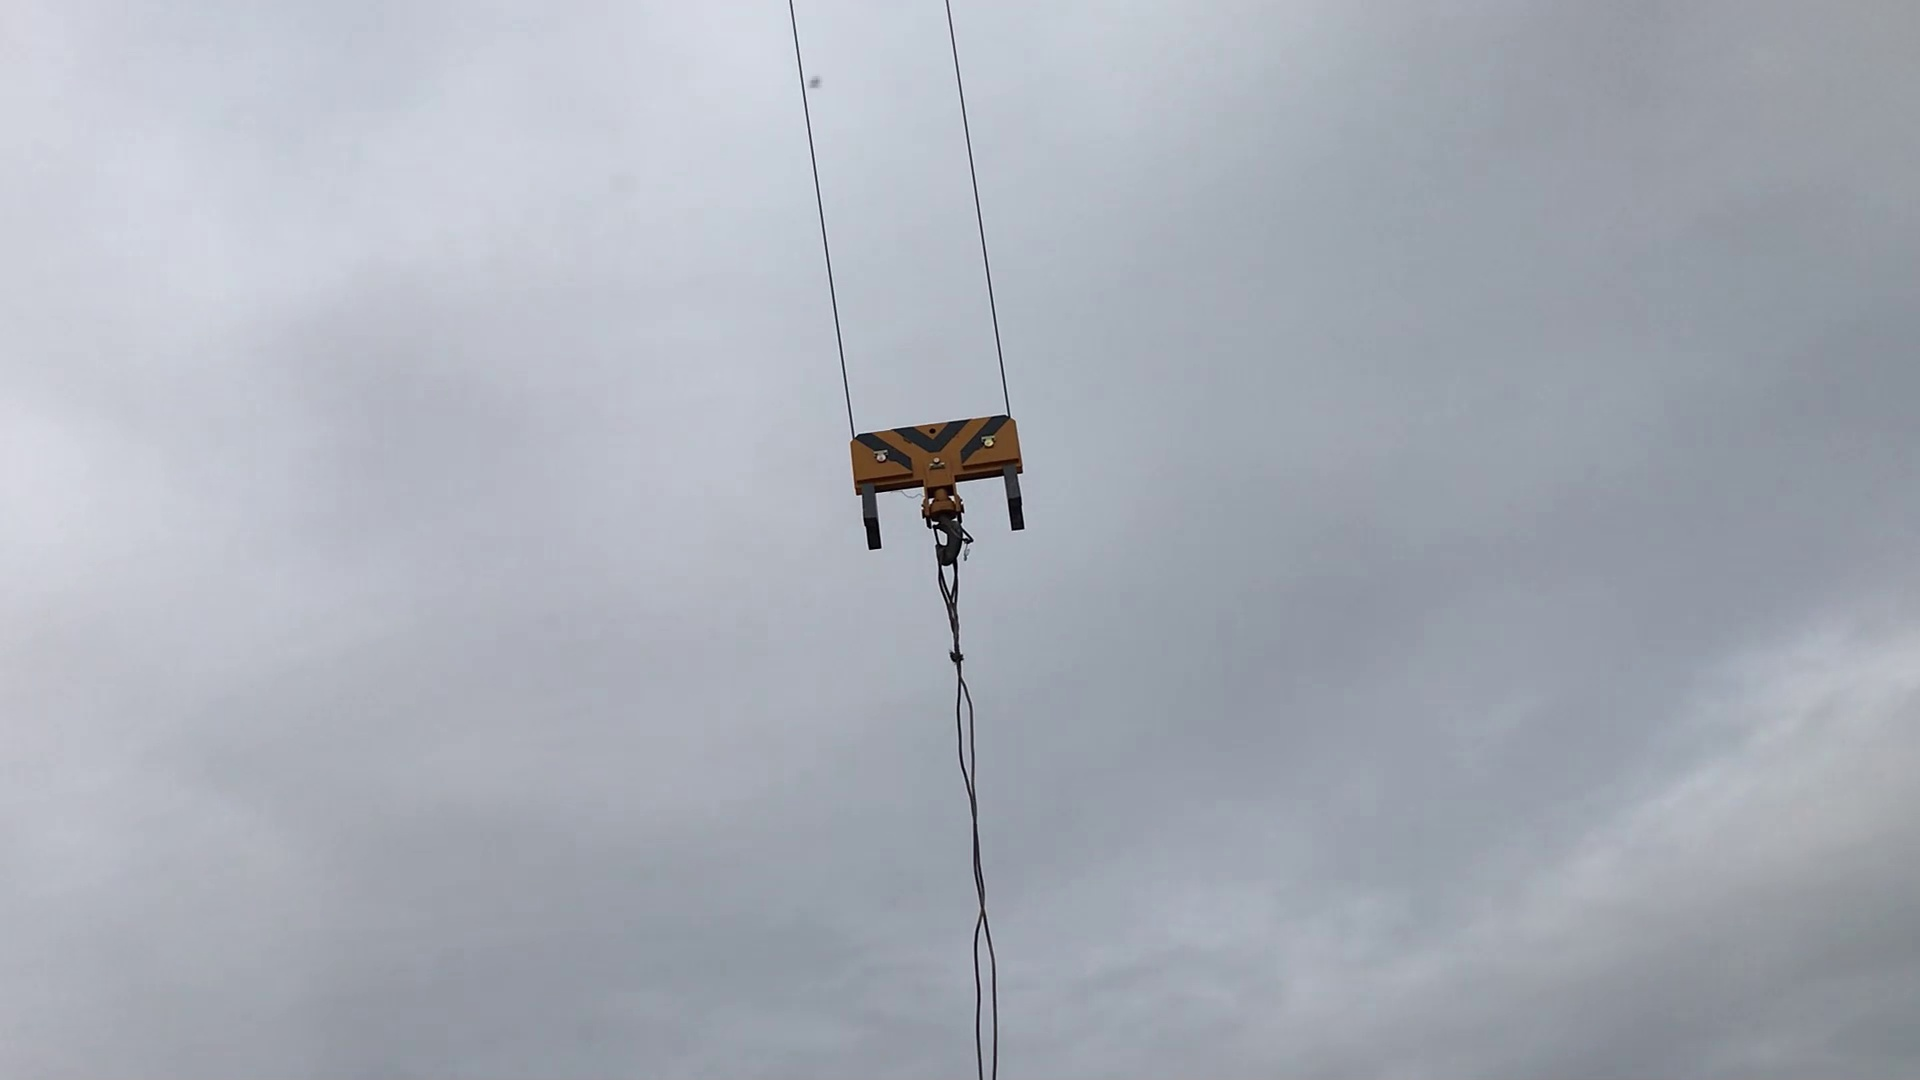hook: (837, 400, 1077, 574)
